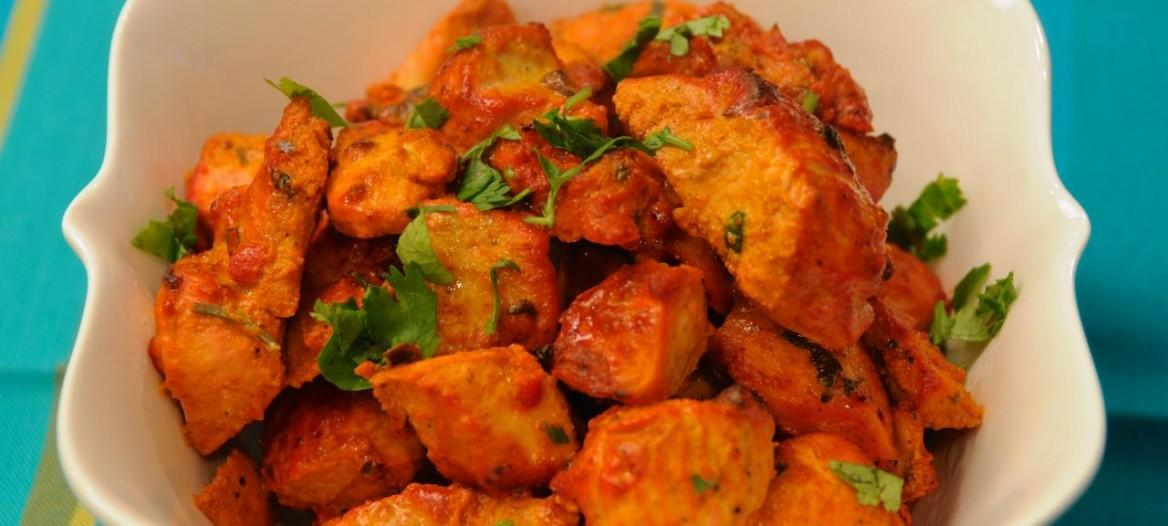AlooMasala: (147, 0, 982, 526)
